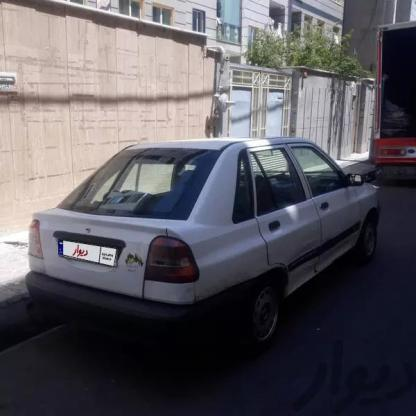Car: (24, 135, 389, 340)
Truck: (352, 18, 416, 189)
